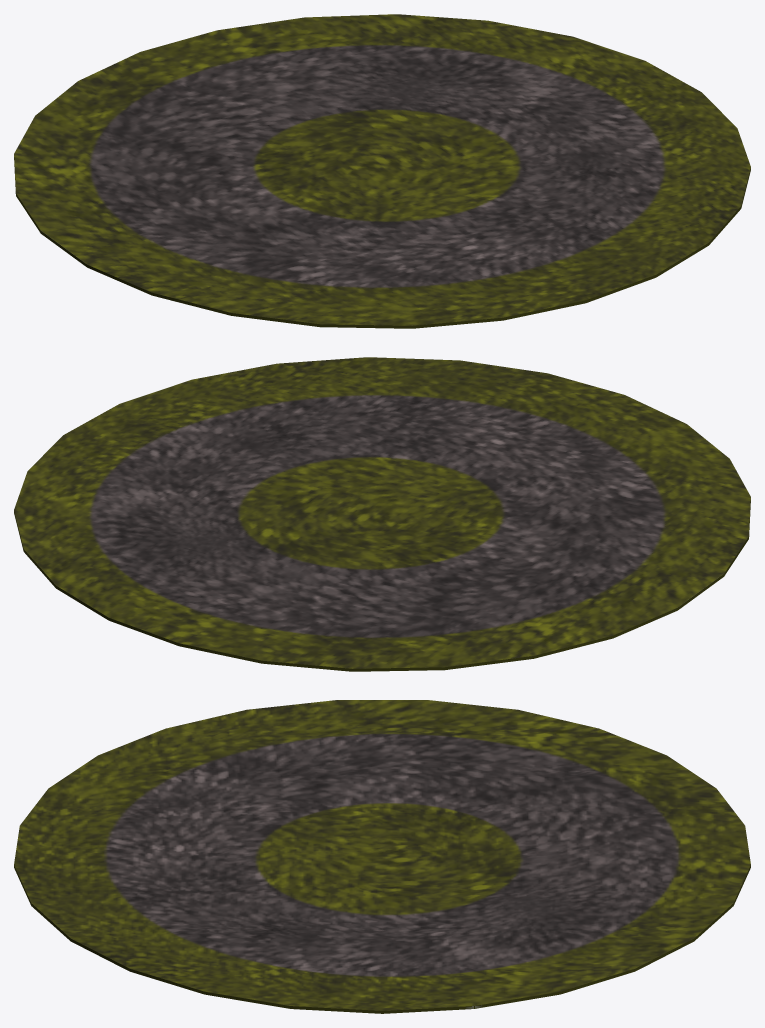
File: alfombra.obj
3 views of the same model, one above another, from view 1: azimuth 30°, elevation 25°; view 2: azimuth 150°, elevation 25°; view 3: azimuth 270°, elevation 25° (orthographic).
Visible parts, largest first — view 1: pasted__pCylinder1 group; view 2: pasted__pCylinder1 group; view 3: pasted__pCylinder1 group.
Boxes of the visible parts, x1,y1,x2,y2 form: pasted__pCylinder1 group: (14,14,750,328); pasted__pCylinder1 group: (14,357,750,671); pasted__pCylinder1 group: (14,700,750,1013).
Bounding box in the file's own units: 4.48 × 0.02 × 4.49.
Materials: 1 (1 with a texture image).
